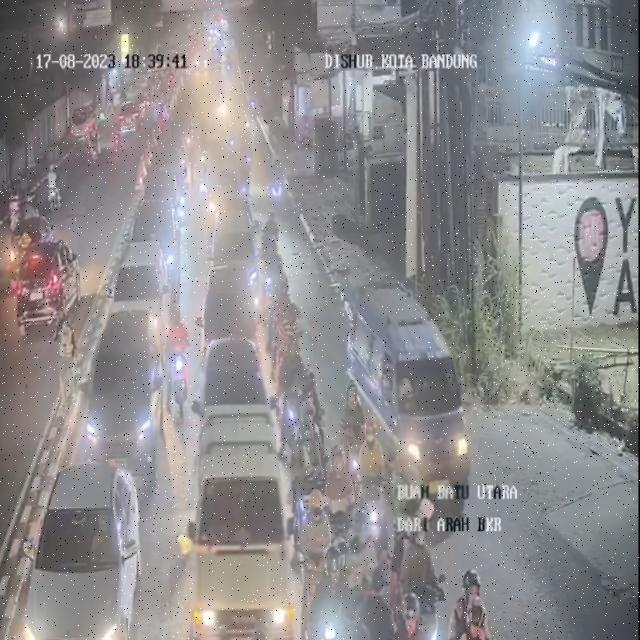cars: (187, 408, 300, 640), (20, 459, 144, 640), (366, 300, 476, 502), (78, 300, 160, 472), (195, 327, 276, 454), (114, 234, 171, 346), (197, 262, 258, 356), (140, 191, 176, 279)
motorcycle: (346, 510, 387, 640), (394, 501, 434, 619), (358, 421, 392, 549), (292, 422, 322, 550), (325, 446, 357, 562), (312, 544, 347, 640), (446, 559, 486, 640), (281, 333, 309, 446), (169, 300, 193, 422), (341, 381, 366, 492), (259, 223, 285, 314), (275, 288, 304, 365), (396, 593, 430, 640), (265, 152, 288, 212), (205, 176, 226, 230), (240, 150, 258, 206), (170, 222, 183, 296), (194, 152, 208, 204), (266, 210, 281, 258), (199, 152, 213, 201)
